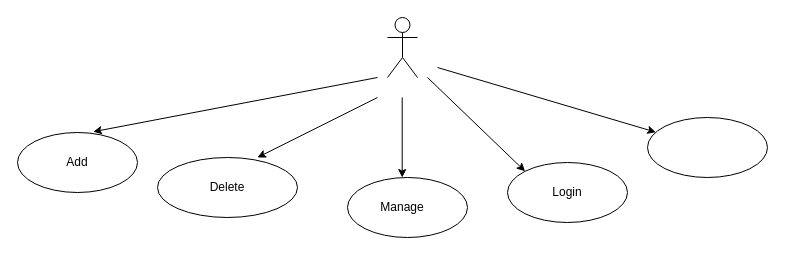
The diagram is 785 pixels wide and 255 high, and some of its shapes have lost their labels. Here are the shapes that lost their labels. From the top down, the centre of each, then its label:
the point at 402,47: Admin
the point at 707,147: Register
